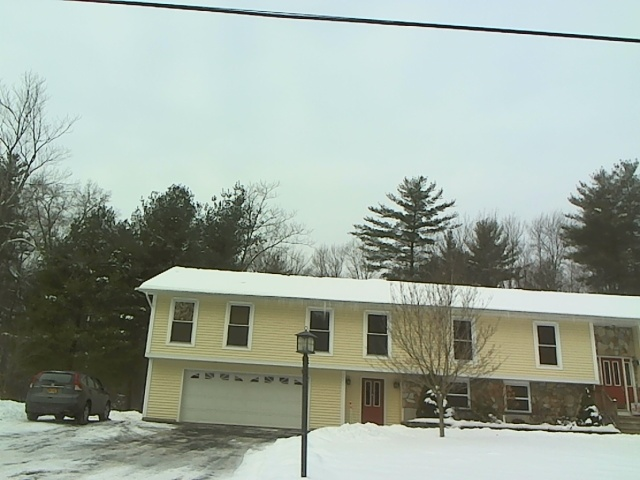Ploughed: (5, 423, 297, 473)
